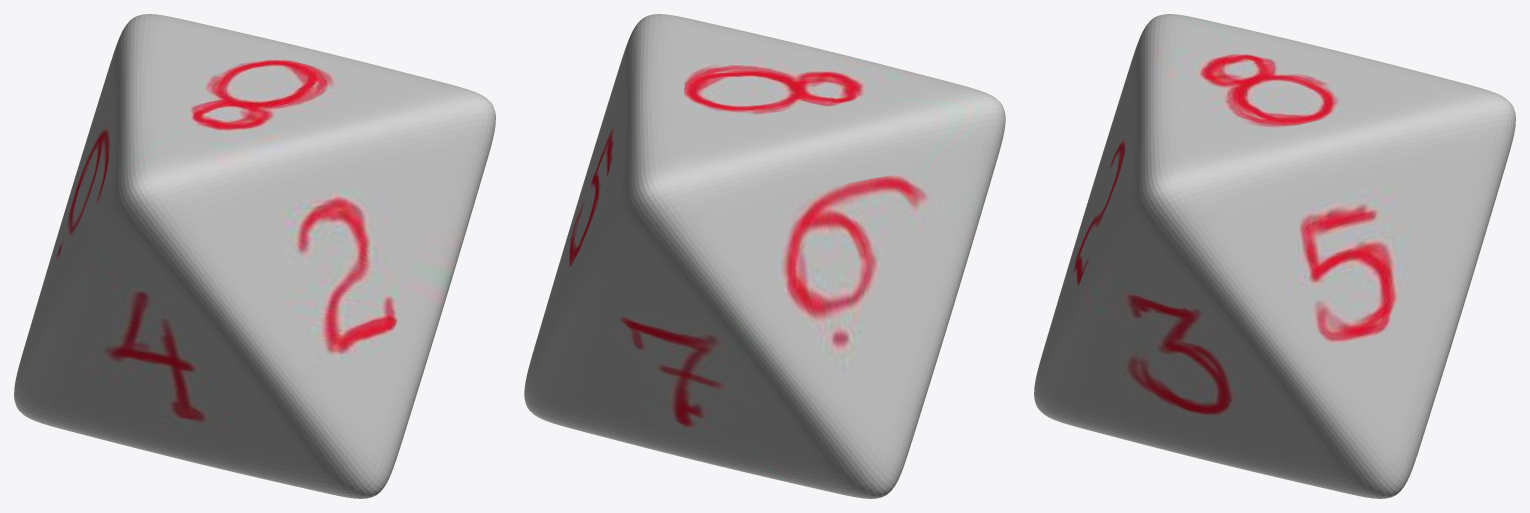
3 renders of one model, left to right at view 1: azimuth 30°, elevation 25°; view 2: azimuth 150°, elevation 25°; view 3: azimuth 270°, elevation 25°, orthographic.
Parts seen in each view (by area): view 1: d8; view 2: d8; view 3: d8.
Boxes of the visible parts, bbox=[...] form: d8: bbox=[14, 14, 495, 498]; d8: bbox=[524, 14, 1005, 498]; d8: bbox=[1034, 14, 1515, 498].
Bounding box in the file's own units: 5.71 × 4.81 × 6.37.
Materials: 1 (1 with a texture image).
